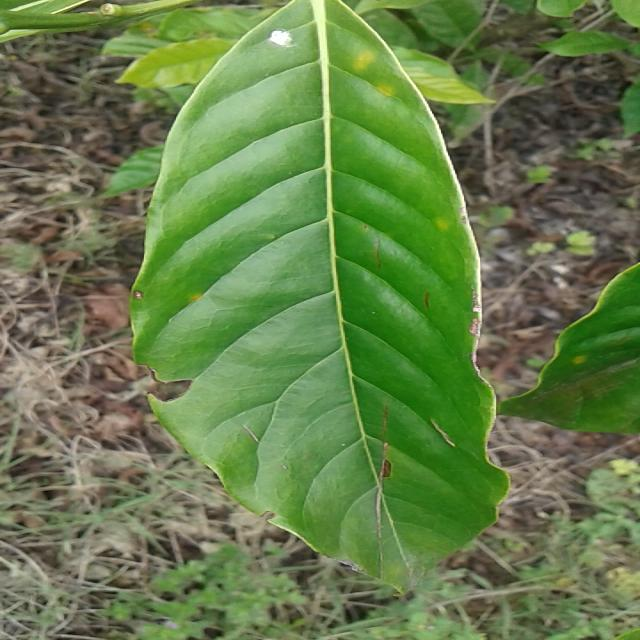Enfermedad-Roya: (128, 0, 509, 596)
